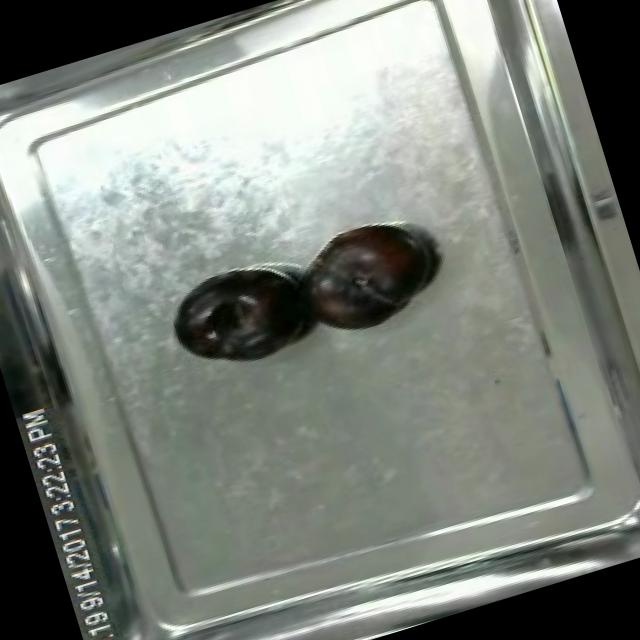Fruit: (156, 252, 322, 384), (292, 208, 446, 344)
